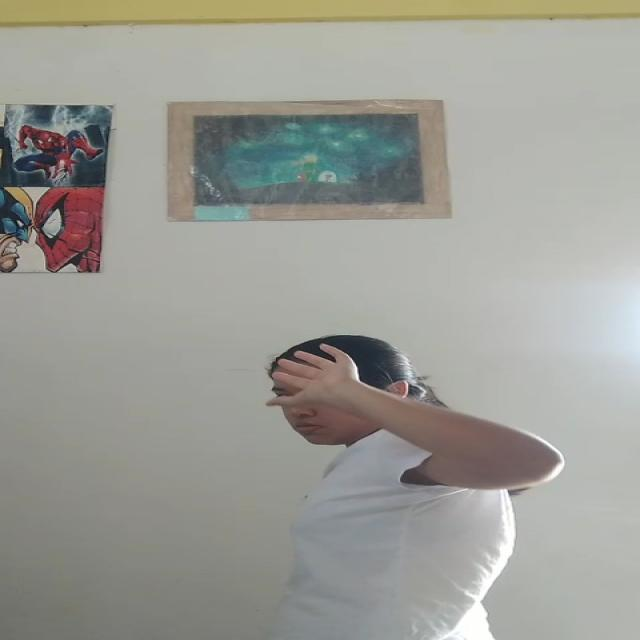7_mano_rostro: (266, 348, 414, 423)
